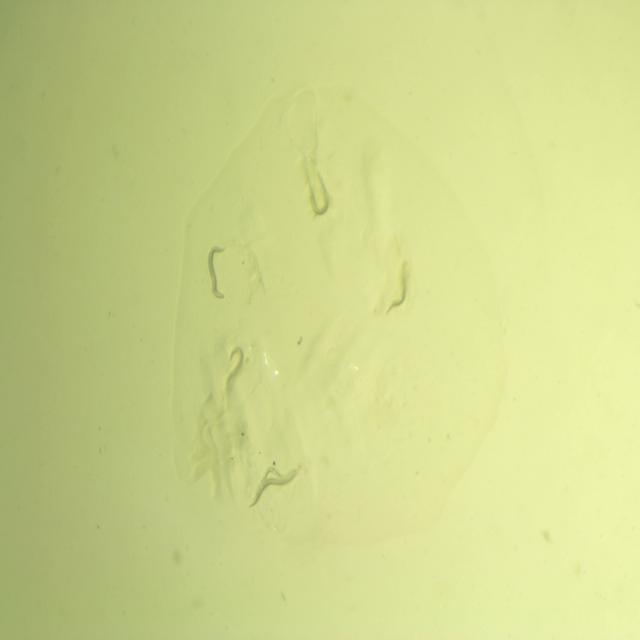worm: (245, 466, 299, 512), (383, 255, 409, 320), (206, 241, 233, 303), (254, 462, 300, 497), (307, 170, 333, 220), (223, 342, 247, 396)
